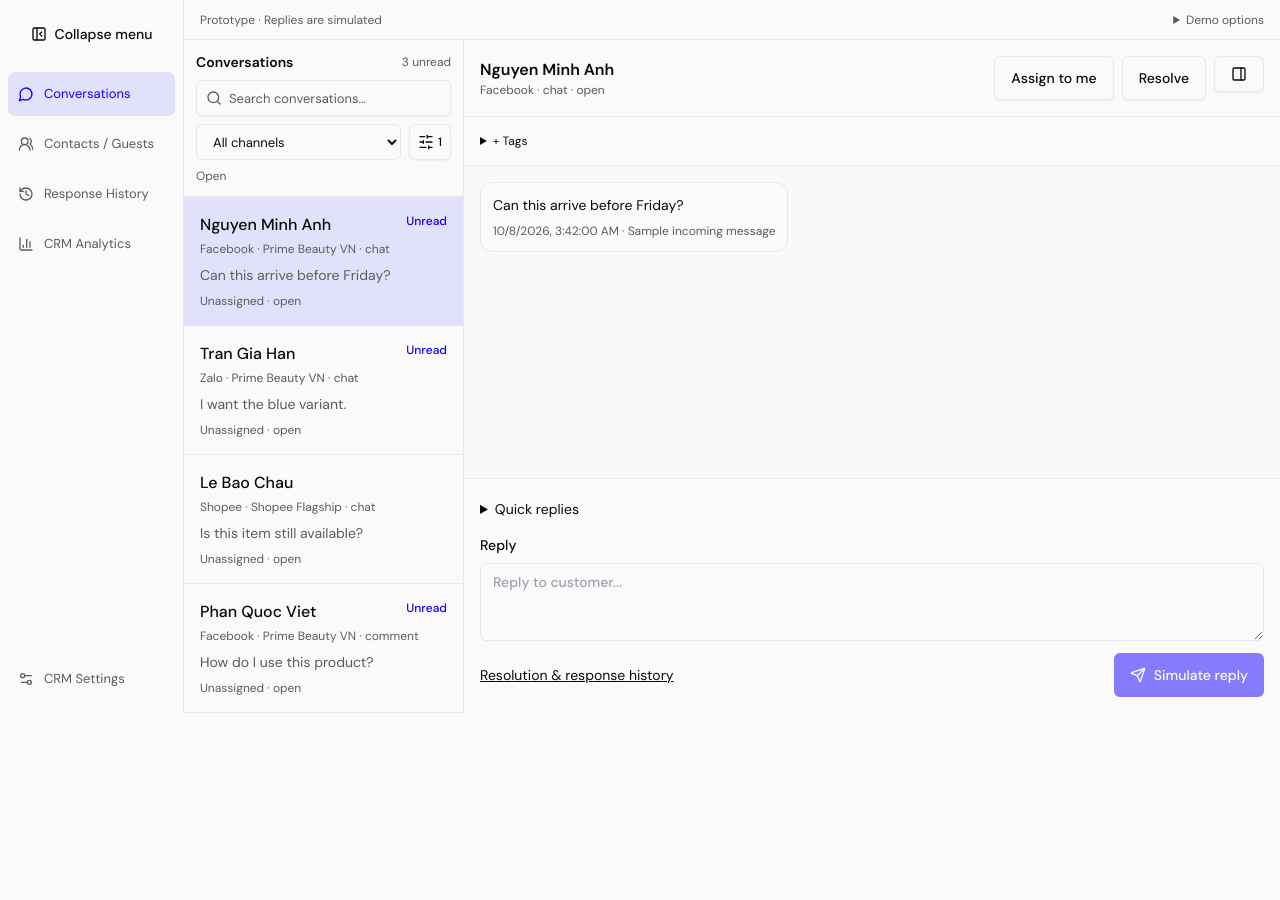
Prime CRM workspace flows › shows active secondary filters when collapsed and clears them without changing channel
The image size is (1280, 900).
Select "Shopee" in the dropdown named "Channel": point(299, 142) 196,124 -> 401,160
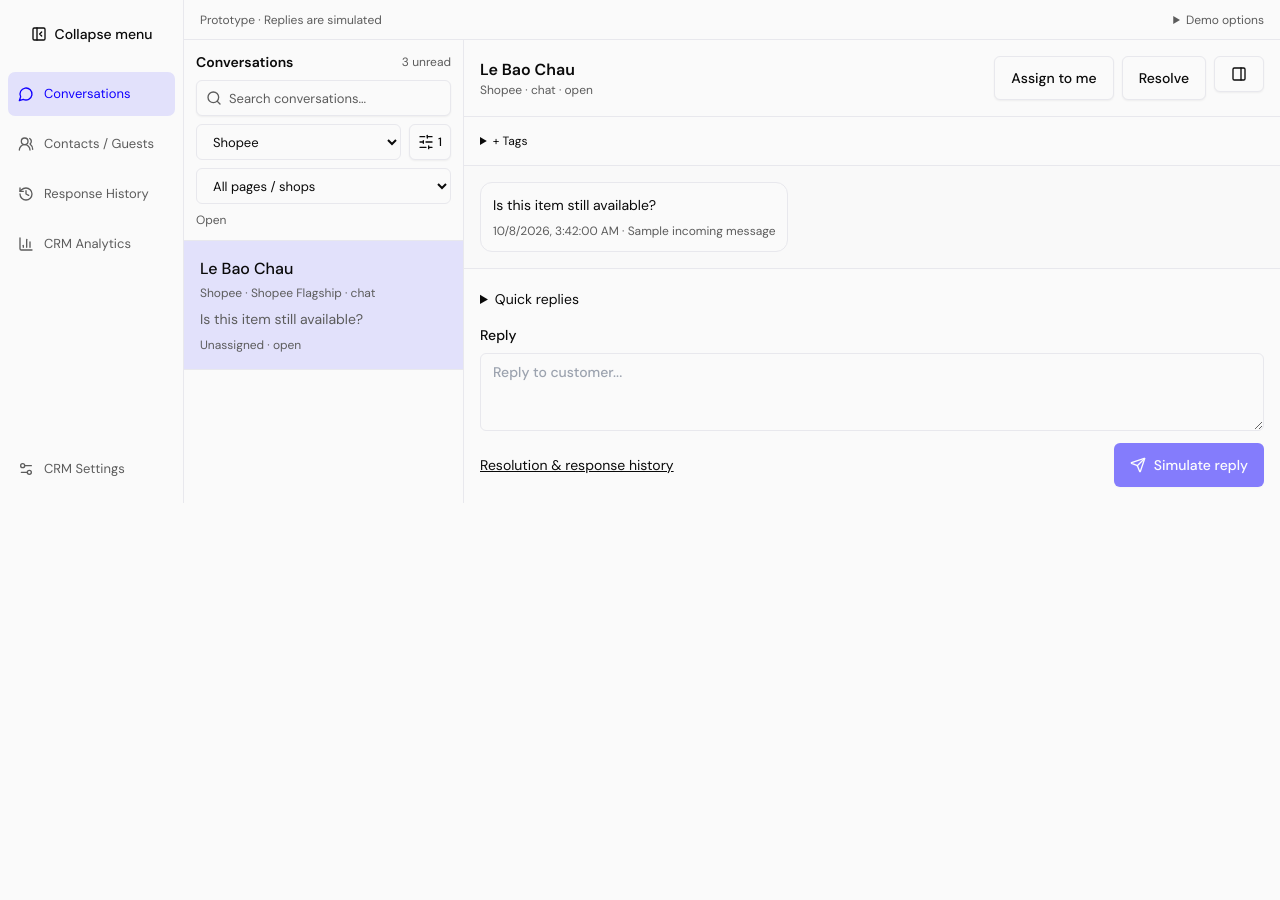
Expected: the field labelled "Unread only" is not shown
Click the button named "Filters (1)": point(430, 142) 409,124 -> 451,160
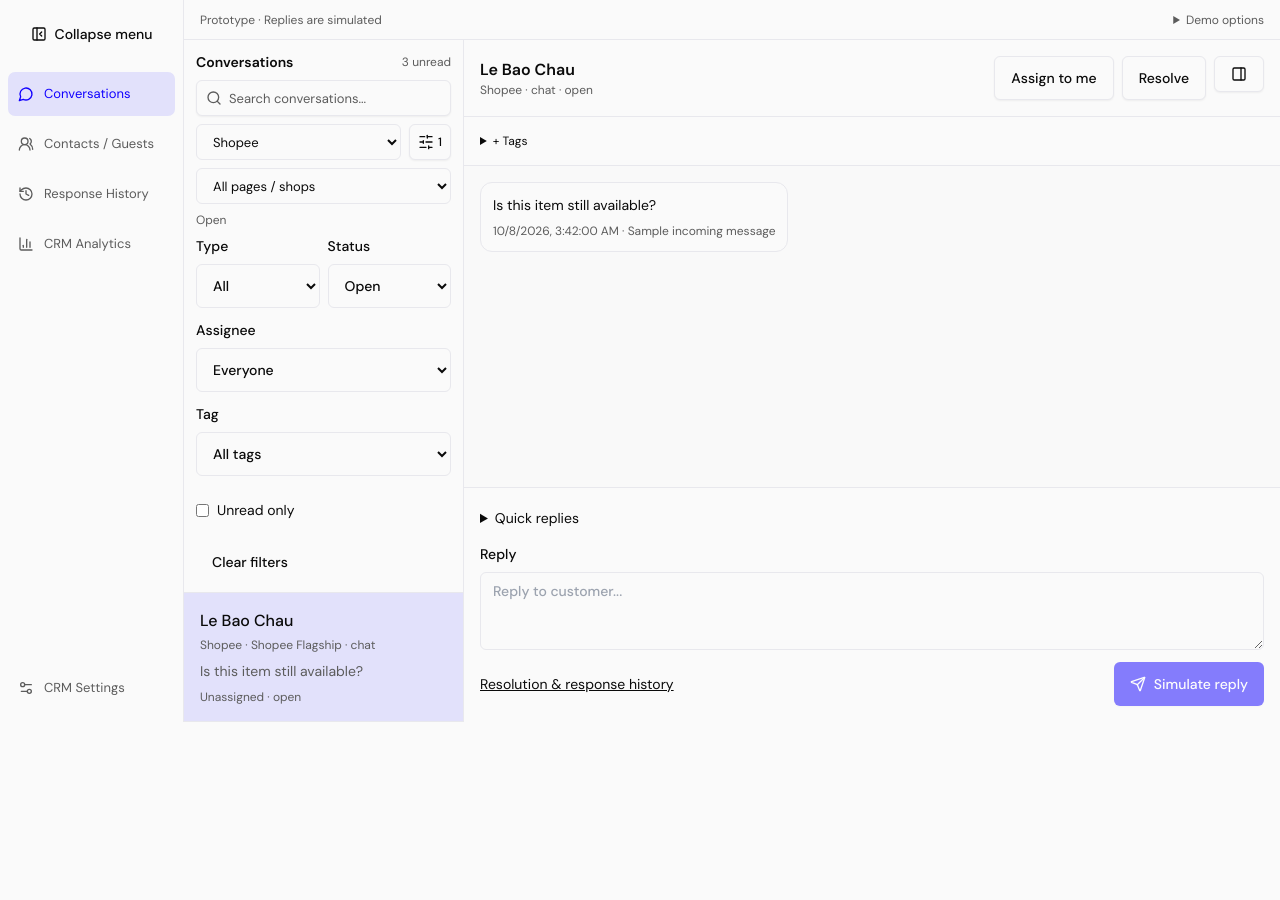
Click the checkbox labelled "Unread only": point(202, 510) 196,504 -> 209,516
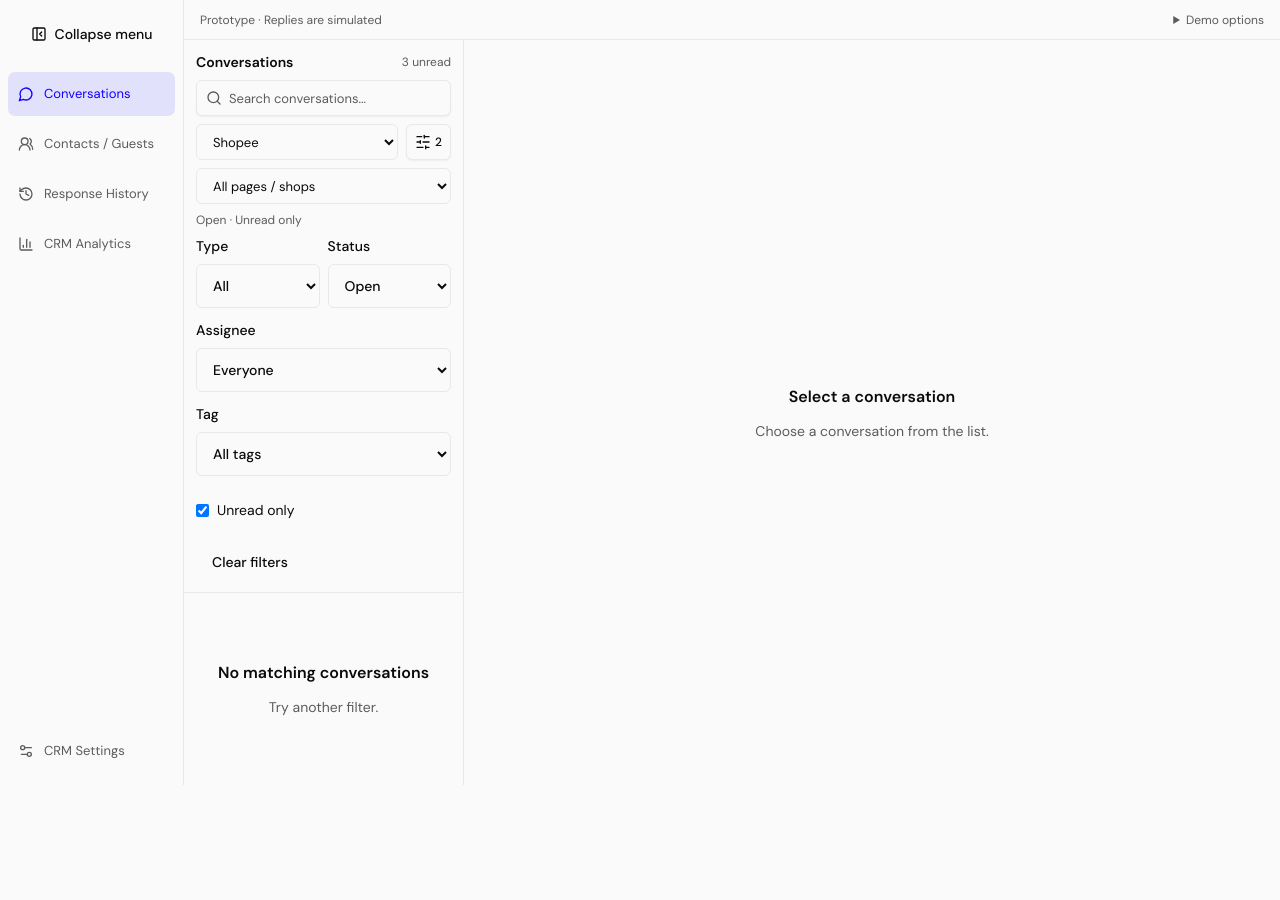
Expected: the heading "No matching conversations" is shown, 218,661 -> 429,685
Click the button named "Filters (2)": point(429, 142) 406,124 -> 451,160
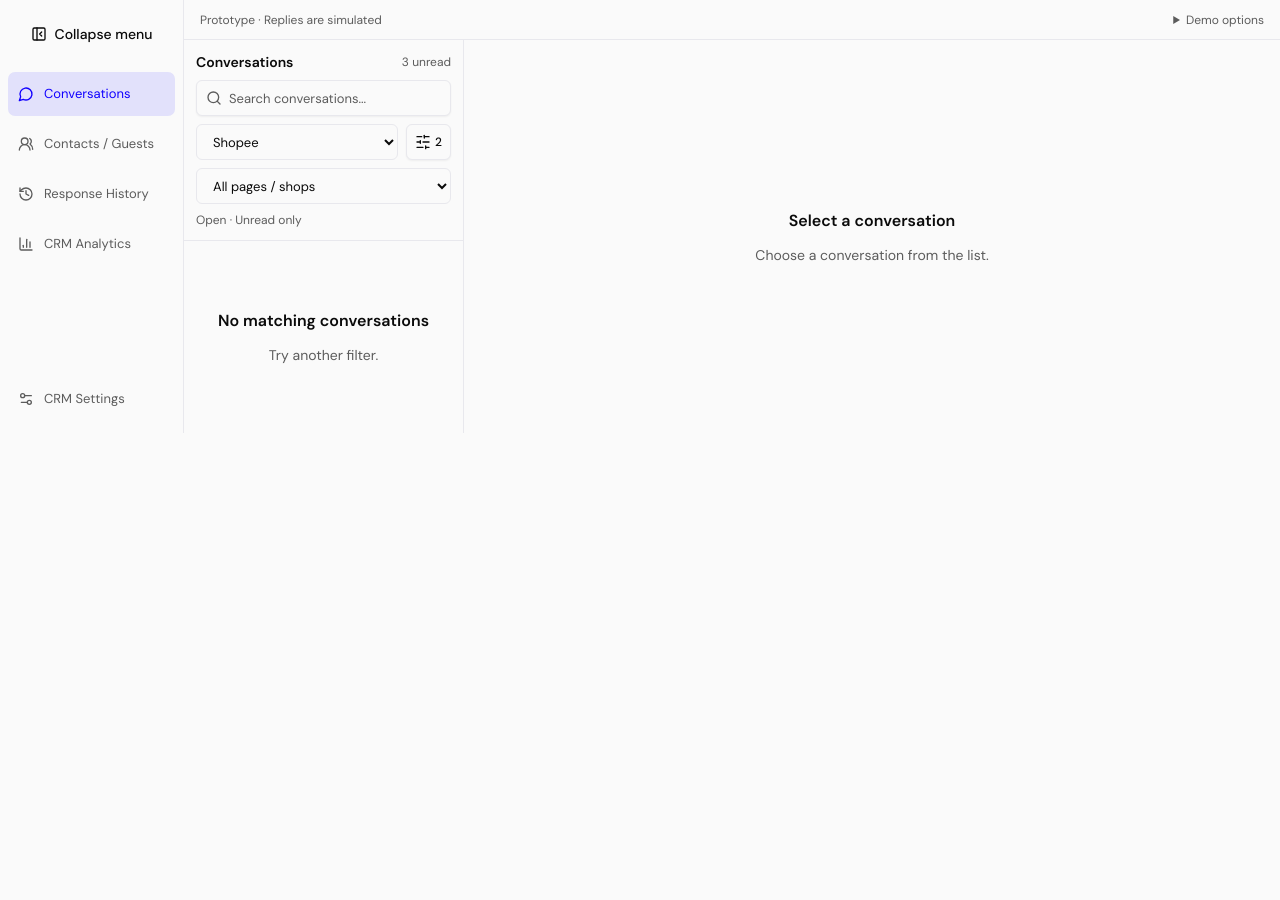
Expected: the text named "Active filters" reads "Open · Unread only", 196,212 -> 302,228
Click the button named "Filters (2)": point(429, 142) 406,124 -> 451,160
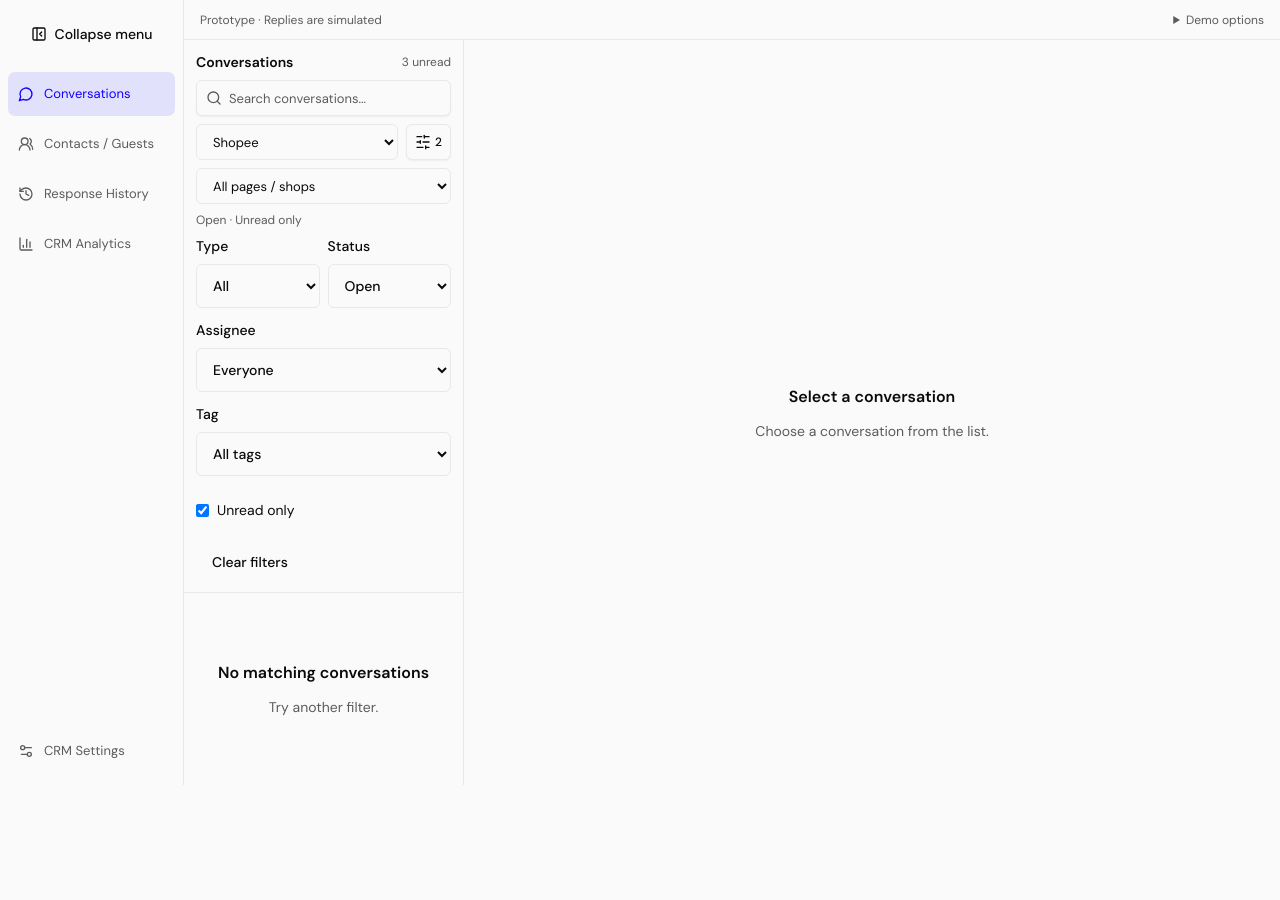
Click the button "Clear filters": point(250, 562) 196,544 -> 304,580
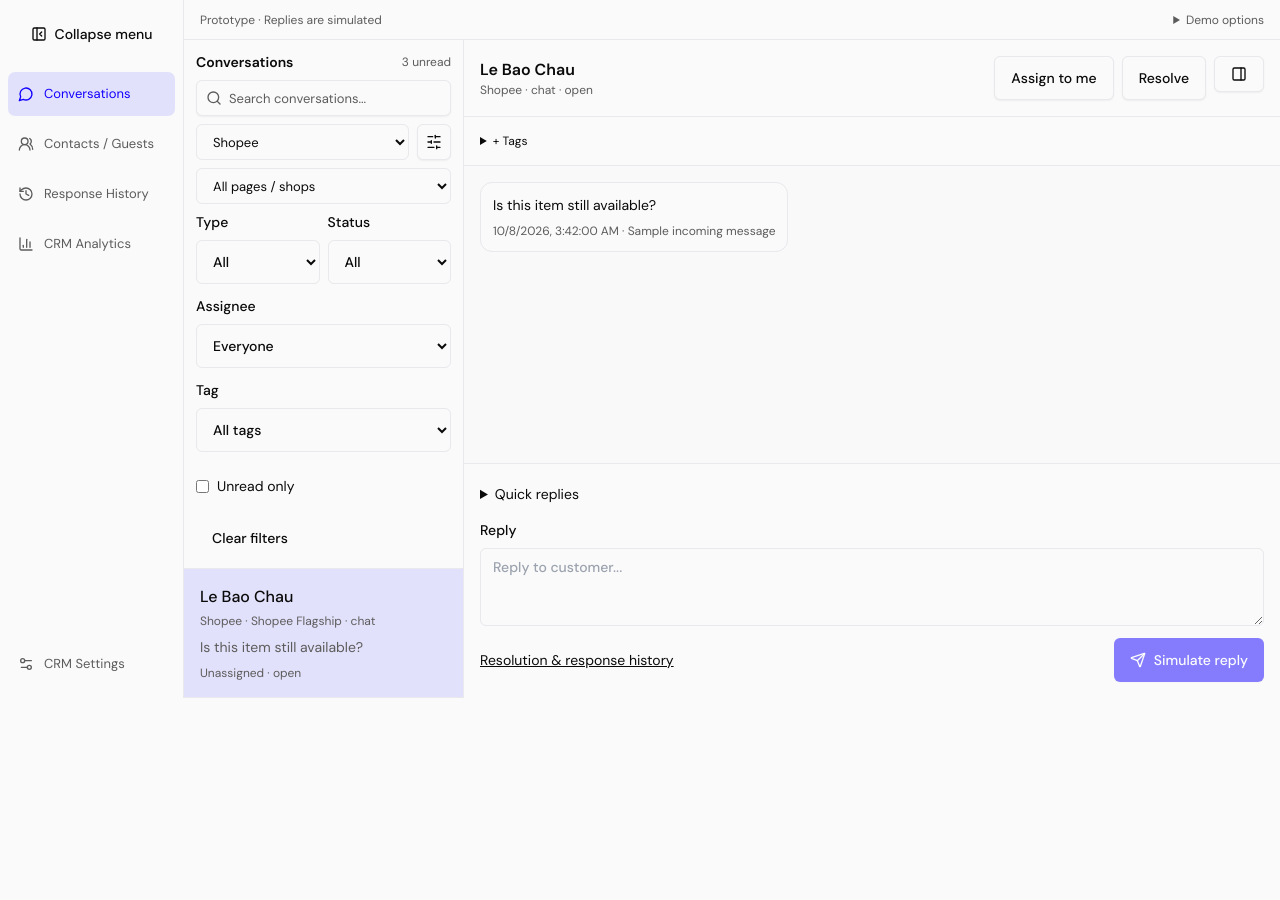
Expected: the heading "Le Bao Chau" is shown, 480,59 -> 575,80
